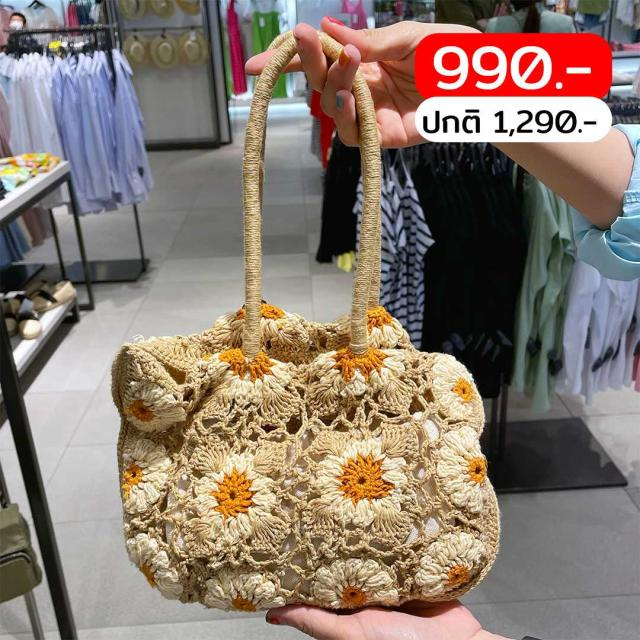handbag: (109, 293, 496, 616)
